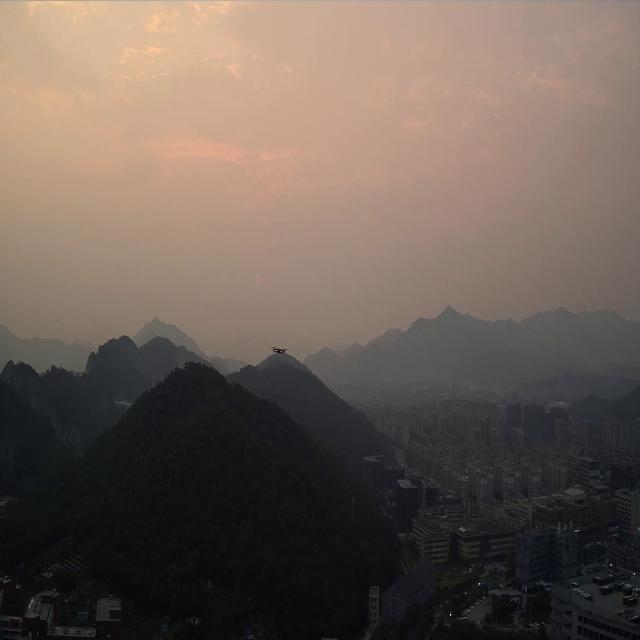drone: (270, 347, 288, 354)
